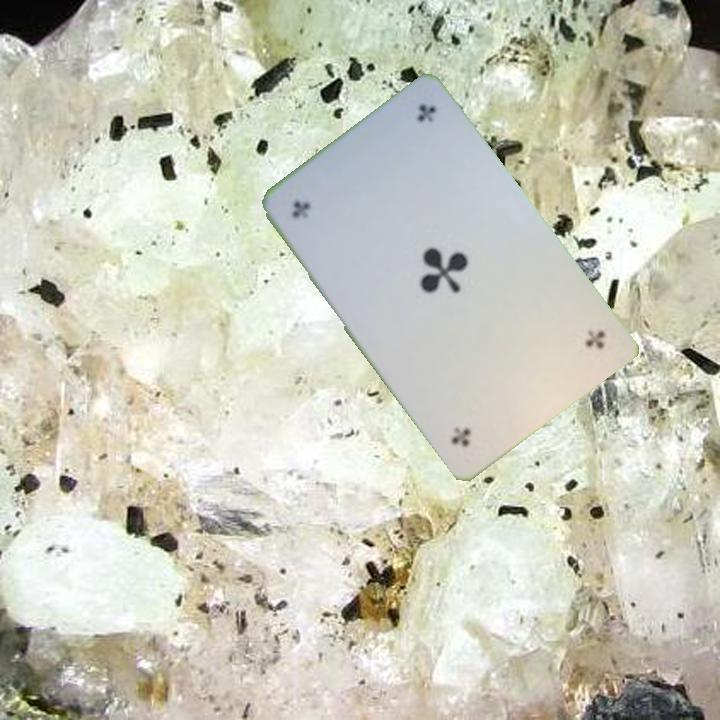c_a.png: (273, 147, 403, 274), (490, 280, 619, 406)
